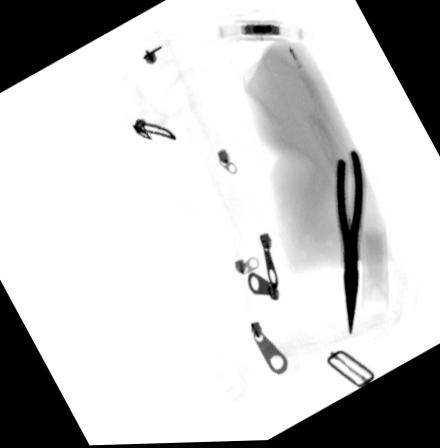Pliers: (334, 150, 367, 336)
